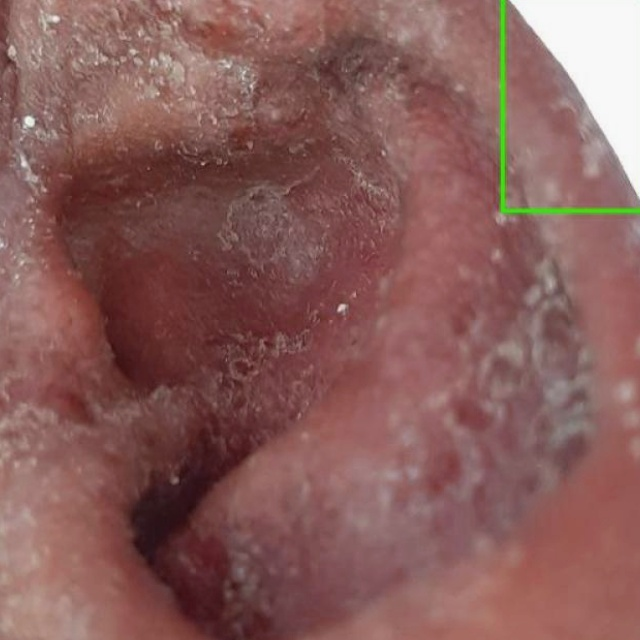Eczema: (502, 0, 639, 210)
